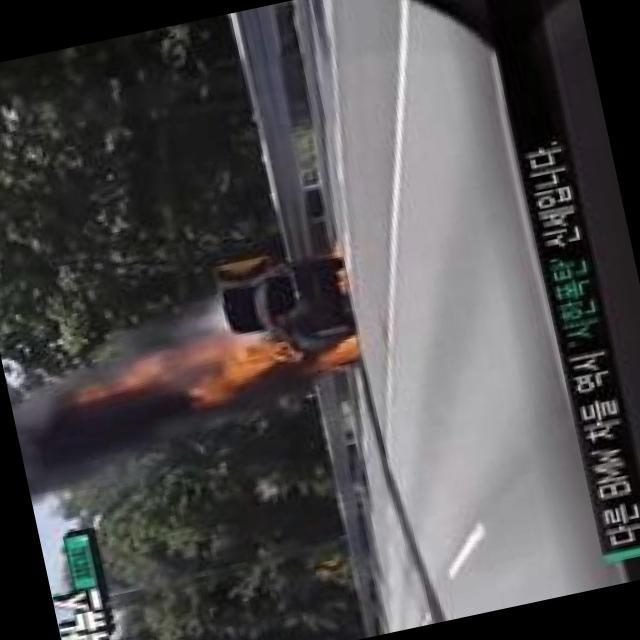Fire: (220, 328, 295, 381), (320, 334, 361, 367)
